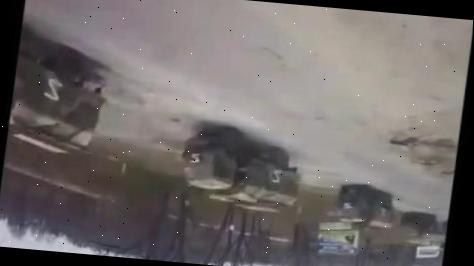truck: (3, 30, 112, 156), (172, 122, 310, 215), (332, 183, 399, 232), (396, 211, 447, 248)
